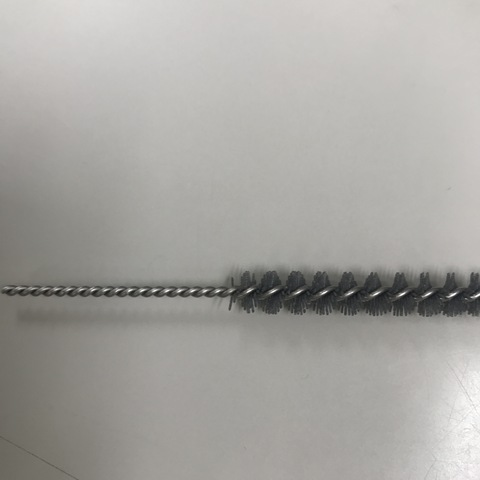Twist Brush-A: (1, 266, 480, 323)
